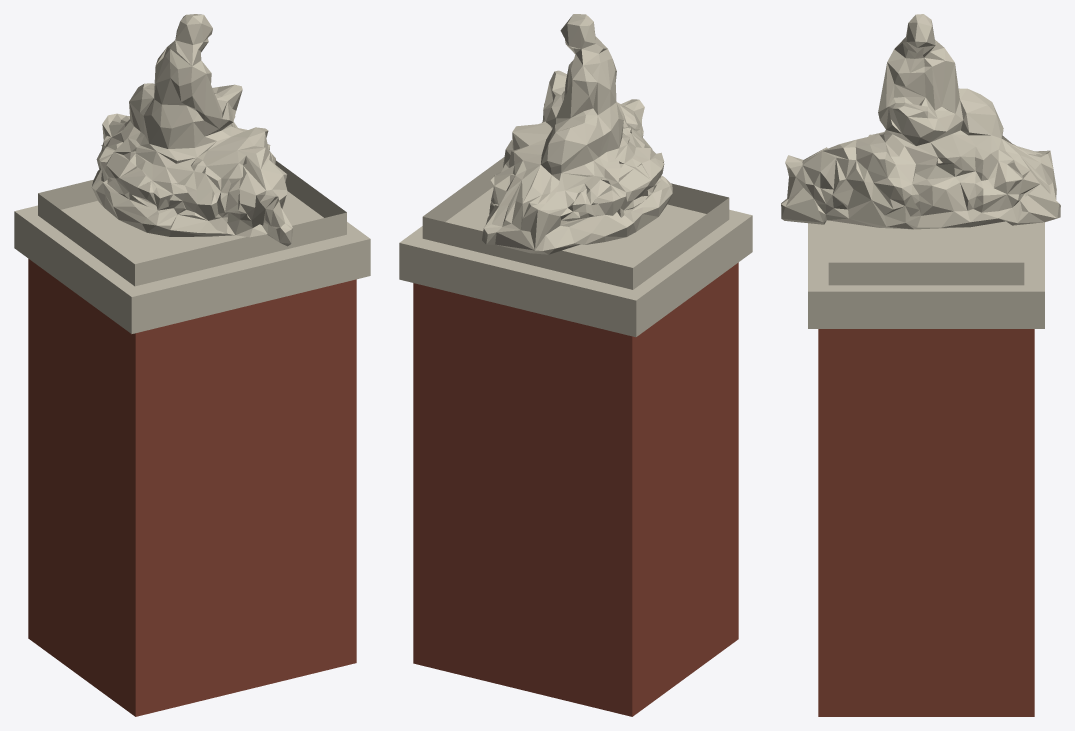
File: kinderbrug-meisje-eekhoorns.lod1.glb
The picture shows the model from 3 angles, left to right: view 1: azimuth 30°, elevation 25°; view 2: azimuth 150°, elevation 25°; view 3: azimuth 270°, elevation 25°; orthographic projection.
Visible parts, largest first — view 1: kinderbrug-meisje-eekhoorns; view 2: kinderbrug-meisje-eekhoorns; view 3: kinderbrug-meisje-eekhoorns.
Part boxes in pixels (x1,y1,x2,y2): kinderbrug-meisje-eekhoorns: [14, 14, 370, 716]; kinderbrug-meisje-eekhoorns: [399, 14, 752, 716]; kinderbrug-meisje-eekhoorns: [781, 14, 1060, 716].
Bounding box in the file's own units: 1.35 × 3.46 × 1.36.
